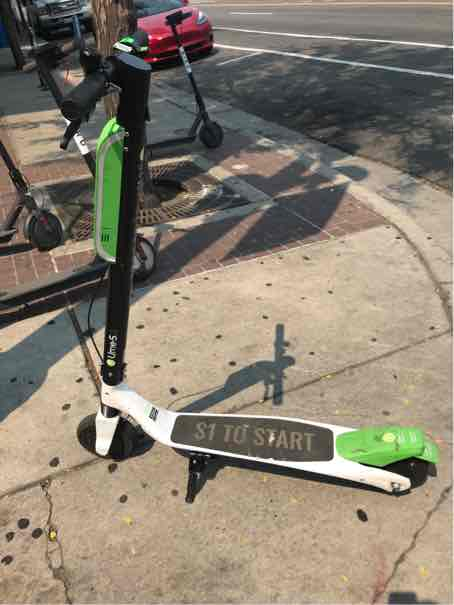scooter: (41, 0, 446, 516)
